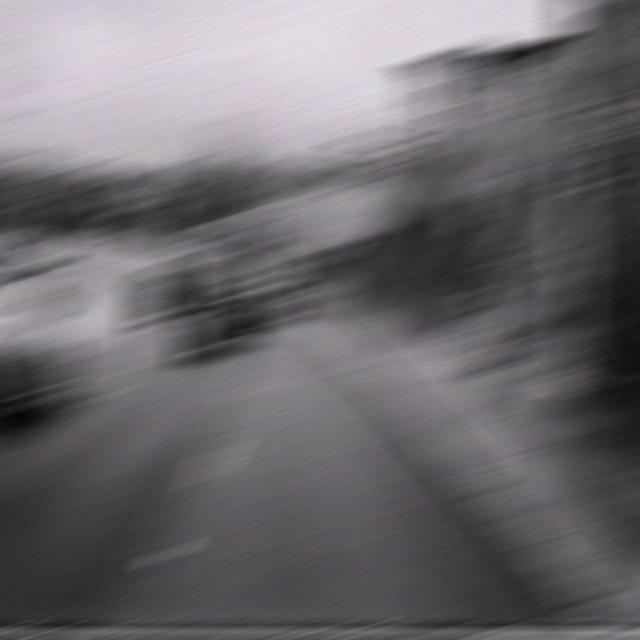pedestrianCrossing: (251, 206, 285, 233)
